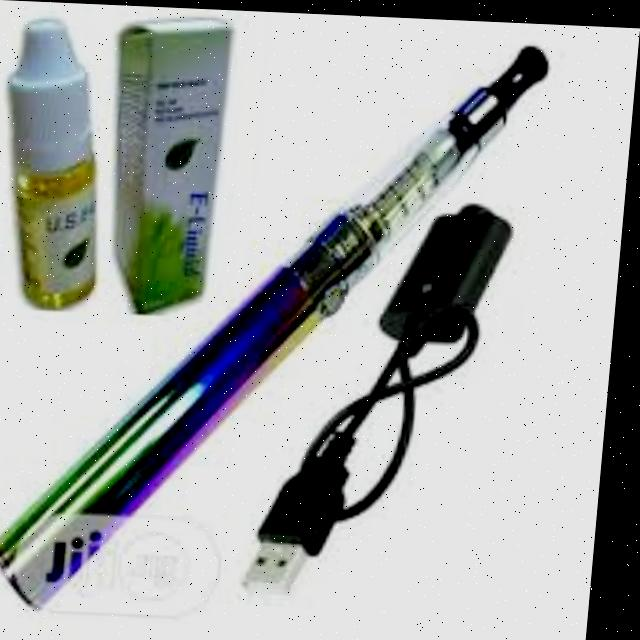vape: (0, 25, 569, 617)
